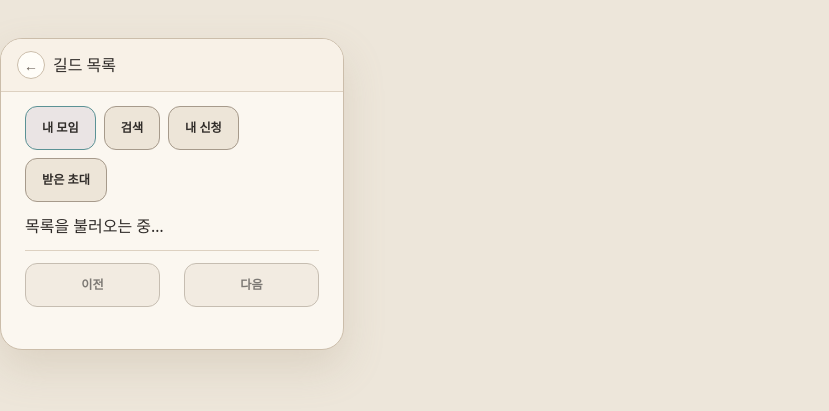
Test case: 비공개 초대는 최소 정보와 수락 작업만 표시하고 멤버 상세를 요청하지 않는다
Click the button "받은 초대". click: (66,180)
box: [25,158,107,202]
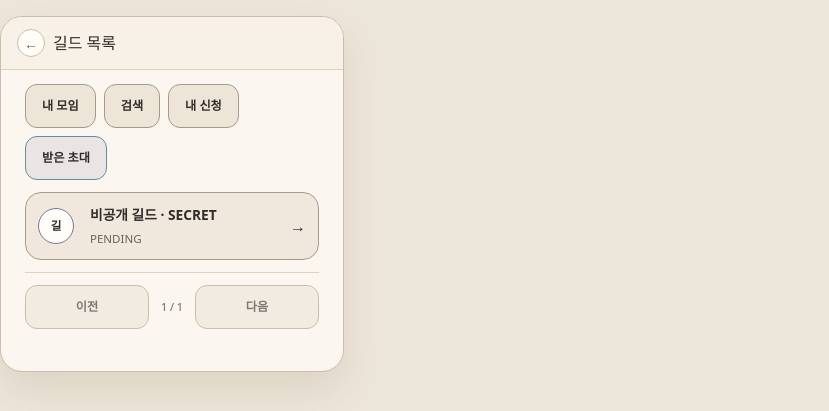
Click the button "길 비공개 길드 · SECRET PENDING →". click: (172,226)
box: [25,192,319,260]
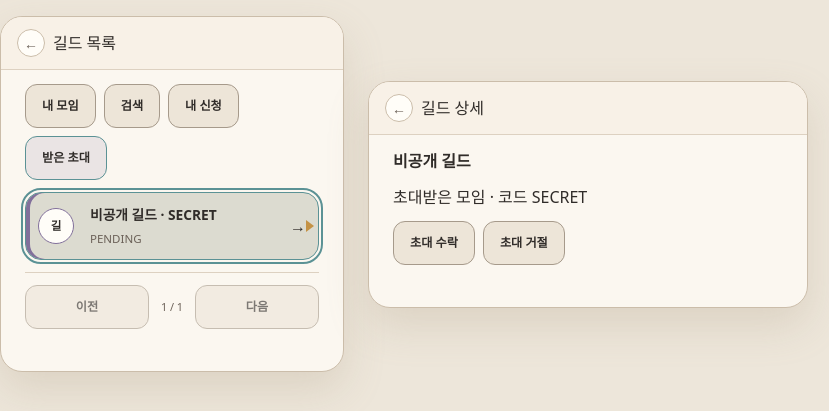
Check: the button "초대 수락" is shown, box [393,220,475,264]
Check: the heading "비공개 길드" is shown, box [393,150,471,172]
